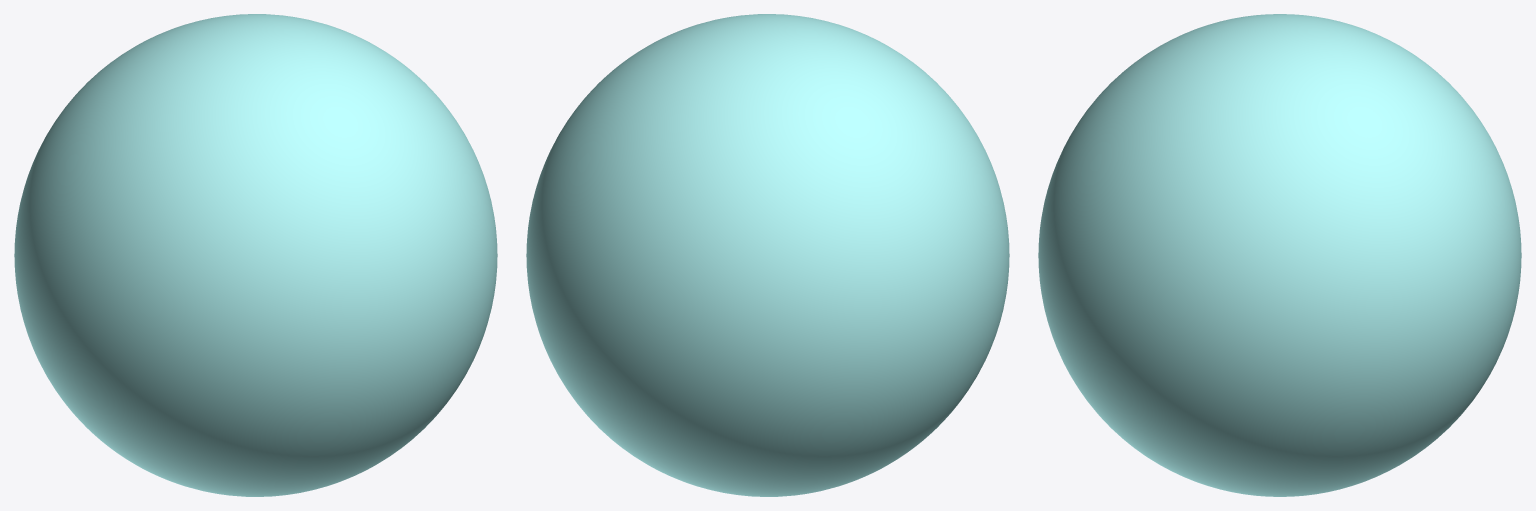
The picture shows the model from 3 angles, left to right: view 1: azimuth 30°, elevation 25°; view 2: azimuth 150°, elevation 25°; view 3: azimuth 270°, elevation 25°; orthographic projection.
Parts seen in each view (by area): view 1: _MeshInstance3D_386, _MeshInstance3D_384, _MeshInstance3D_387, _MeshInstance3D_382, _MeshInstance3D_385, _MeshInstance3D_380, _MeshInstance3D_383; view 2: _MeshInstance3D_382, _MeshInstance3D_380, _MeshInstance3D_383, _MeshInstance3D_386, _MeshInstance3D_381, _MeshInstance3D_384, _MeshInstance3D_387; view 3: _MeshInstance3D_383, _MeshInstance3D_387, _MeshInstance3D_381, _MeshInstance3D_385, _MeshInstance3D_382, _MeshInstance3D_386.
Part boxes in pixels (x1=…): _MeshInstance3D_386: x1=46, y1=36, x2=376, y2=357; _MeshInstance3D_384: x1=46, y1=307, x2=376, y2=496; _MeshInstance3D_387: x1=256, y1=30, x2=497, y2=343; _MeshInstance3D_382: x1=14, y1=19, x2=255, y2=305; _MeshInstance3D_385: x1=319, y1=261, x2=497, y2=488; _MeshInstance3D_380: x1=14, y1=256, x2=104, y2=443; _MeshInstance3D_383: x1=203, y1=14, x2=388, y2=53; _MeshInstance3D_382: x1=647, y1=36, x2=977, y2=357; _MeshInstance3D_380: x1=647, y1=307, x2=977, y2=496; _MeshInstance3D_383: x1=526, y1=30, x2=767, y2=343; _MeshInstance3D_386: x1=768, y1=19, x2=1009, y2=305; _MeshInstance3D_381: x1=526, y1=261, x2=704, y2=488; _MeshInstance3D_384: x1=919, y1=256, x2=1009, y2=443; _MeshInstance3D_387: x1=635, y1=14, x2=820, y2=53; _MeshInstance3D_383: x1=1280, y1=36, x2=1521, y2=357; _MeshInstance3D_387: x1=1038, y1=36, x2=1279, y2=357; _MeshInstance3D_381: x1=1280, y1=257, x2=1521, y2=496; _MeshInstance3D_385: x1=1038, y1=257, x2=1279, y2=496; _MeshInstance3D_382: x1=1280, y1=14, x2=1520, y2=238; _MeshInstance3D_386: x1=1039, y1=14, x2=1279, y2=238.
Size of the model in its own units: 20 by 20 by 20.
